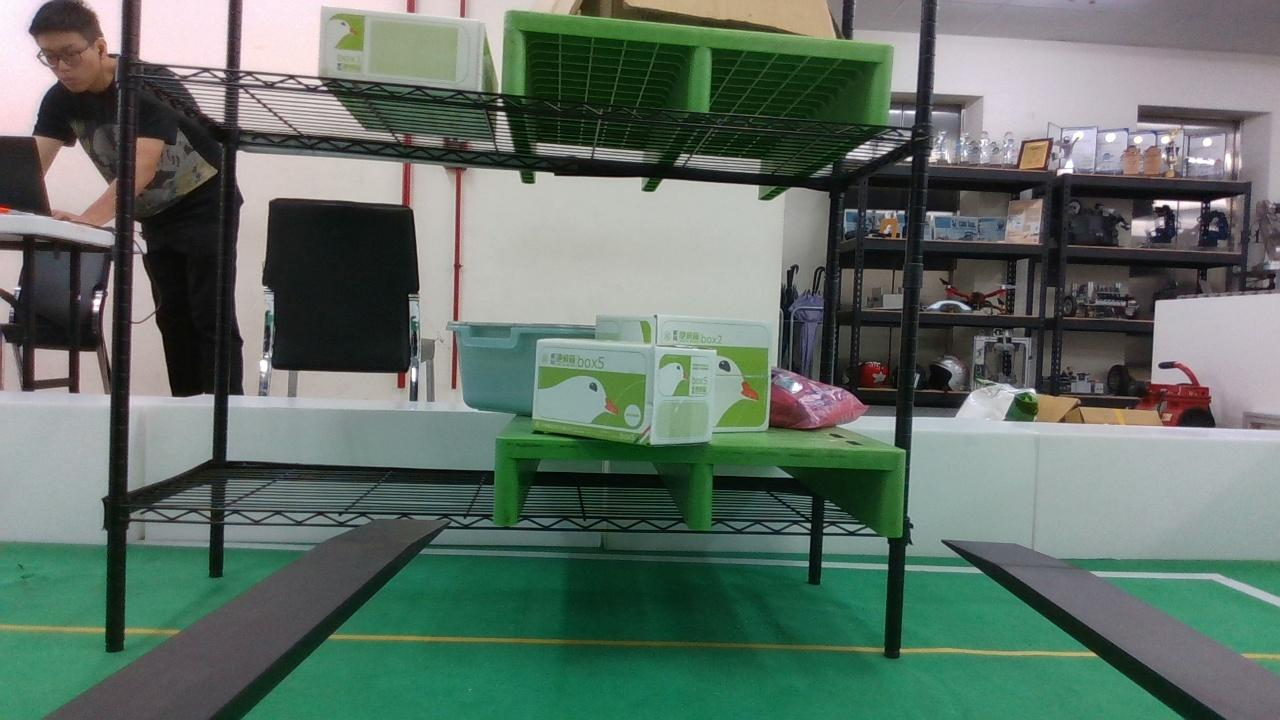Pallet: (502, 13, 900, 124), (491, 435, 908, 532)
